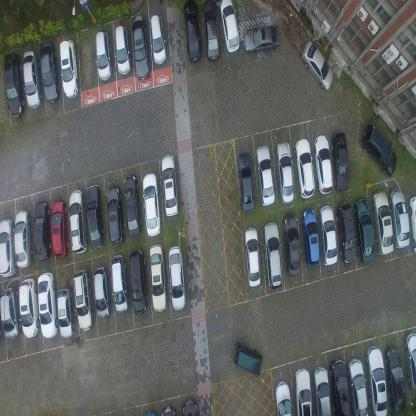car: (361, 120, 398, 176), (302, 36, 334, 90), (371, 188, 394, 256), (366, 344, 388, 415), (4, 51, 26, 118), (264, 220, 284, 291), (384, 345, 405, 411), (38, 271, 58, 339), (73, 268, 94, 332), (39, 39, 60, 103), (128, 249, 148, 316), (295, 136, 316, 199), (354, 196, 374, 262), (68, 190, 88, 255), (282, 211, 302, 275), (336, 200, 356, 264), (131, 14, 150, 81), (32, 199, 52, 262), (149, 243, 167, 313), (314, 132, 334, 194), (389, 186, 409, 248), (59, 38, 79, 100), (276, 139, 295, 204), (160, 154, 179, 218), (50, 199, 70, 259), (19, 278, 39, 338), (330, 358, 351, 415), (201, 0, 220, 63), (168, 246, 186, 312), (124, 174, 142, 240), (86, 184, 104, 250), (243, 22, 280, 54), (348, 358, 368, 416), (106, 186, 125, 247), (236, 149, 254, 213), (243, 225, 261, 289), (142, 174, 160, 238), (14, 209, 33, 269), (23, 49, 42, 109), (256, 144, 274, 207), (110, 255, 129, 314), (0, 286, 21, 339), (183, 0, 201, 61), (219, 0, 240, 52), (320, 205, 338, 265), (302, 206, 320, 265), (233, 341, 262, 377), (149, 14, 168, 65), (0, 214, 15, 278), (94, 267, 112, 320), (56, 287, 74, 339), (95, 26, 112, 81), (314, 365, 332, 415), (115, 23, 132, 75), (294, 367, 312, 415), (404, 331, 416, 394), (274, 380, 293, 415), (408, 194, 416, 254), (182, 396, 198, 415)
